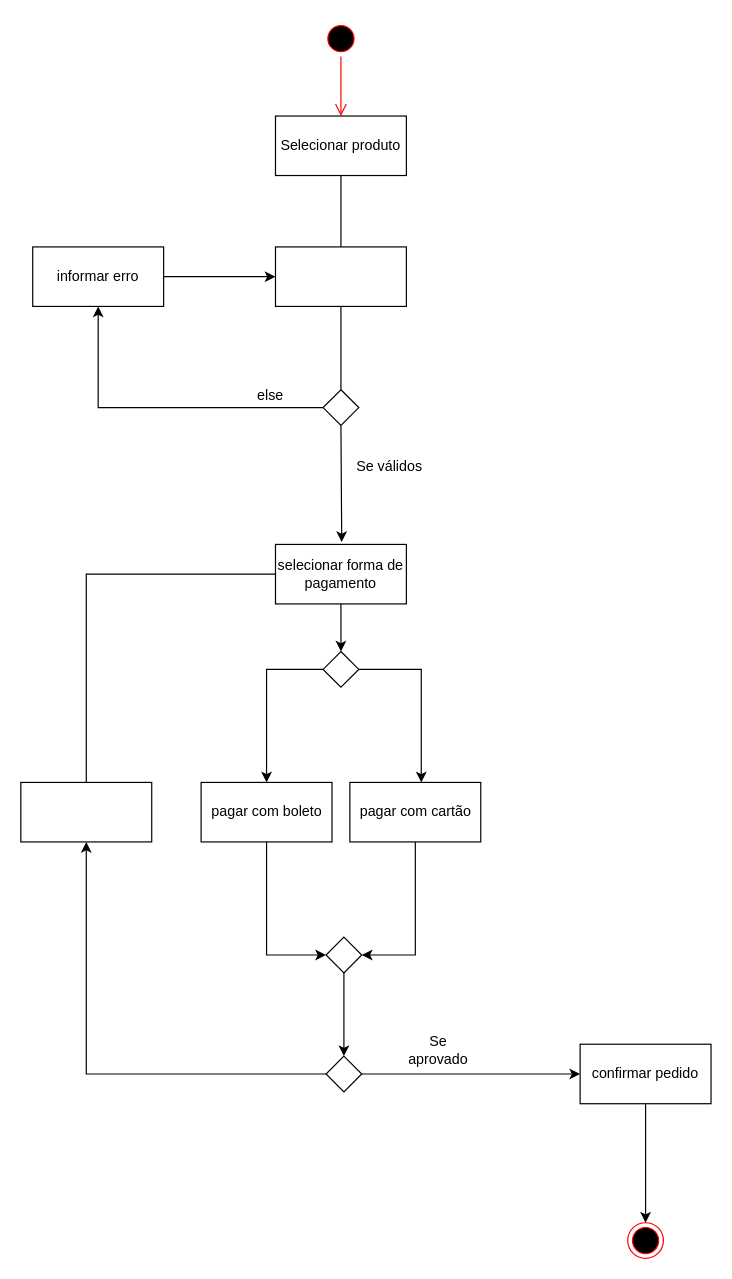
Some shapes in this 732 by 1279 pixel diagram are drawn without their labels. Here are the shapes that lost their labels. From the top down, the box of each, then its label:
(274, 246, 406, 306): Inserir dados do pedido
(20, 781, 152, 842): Mensagem de erro
